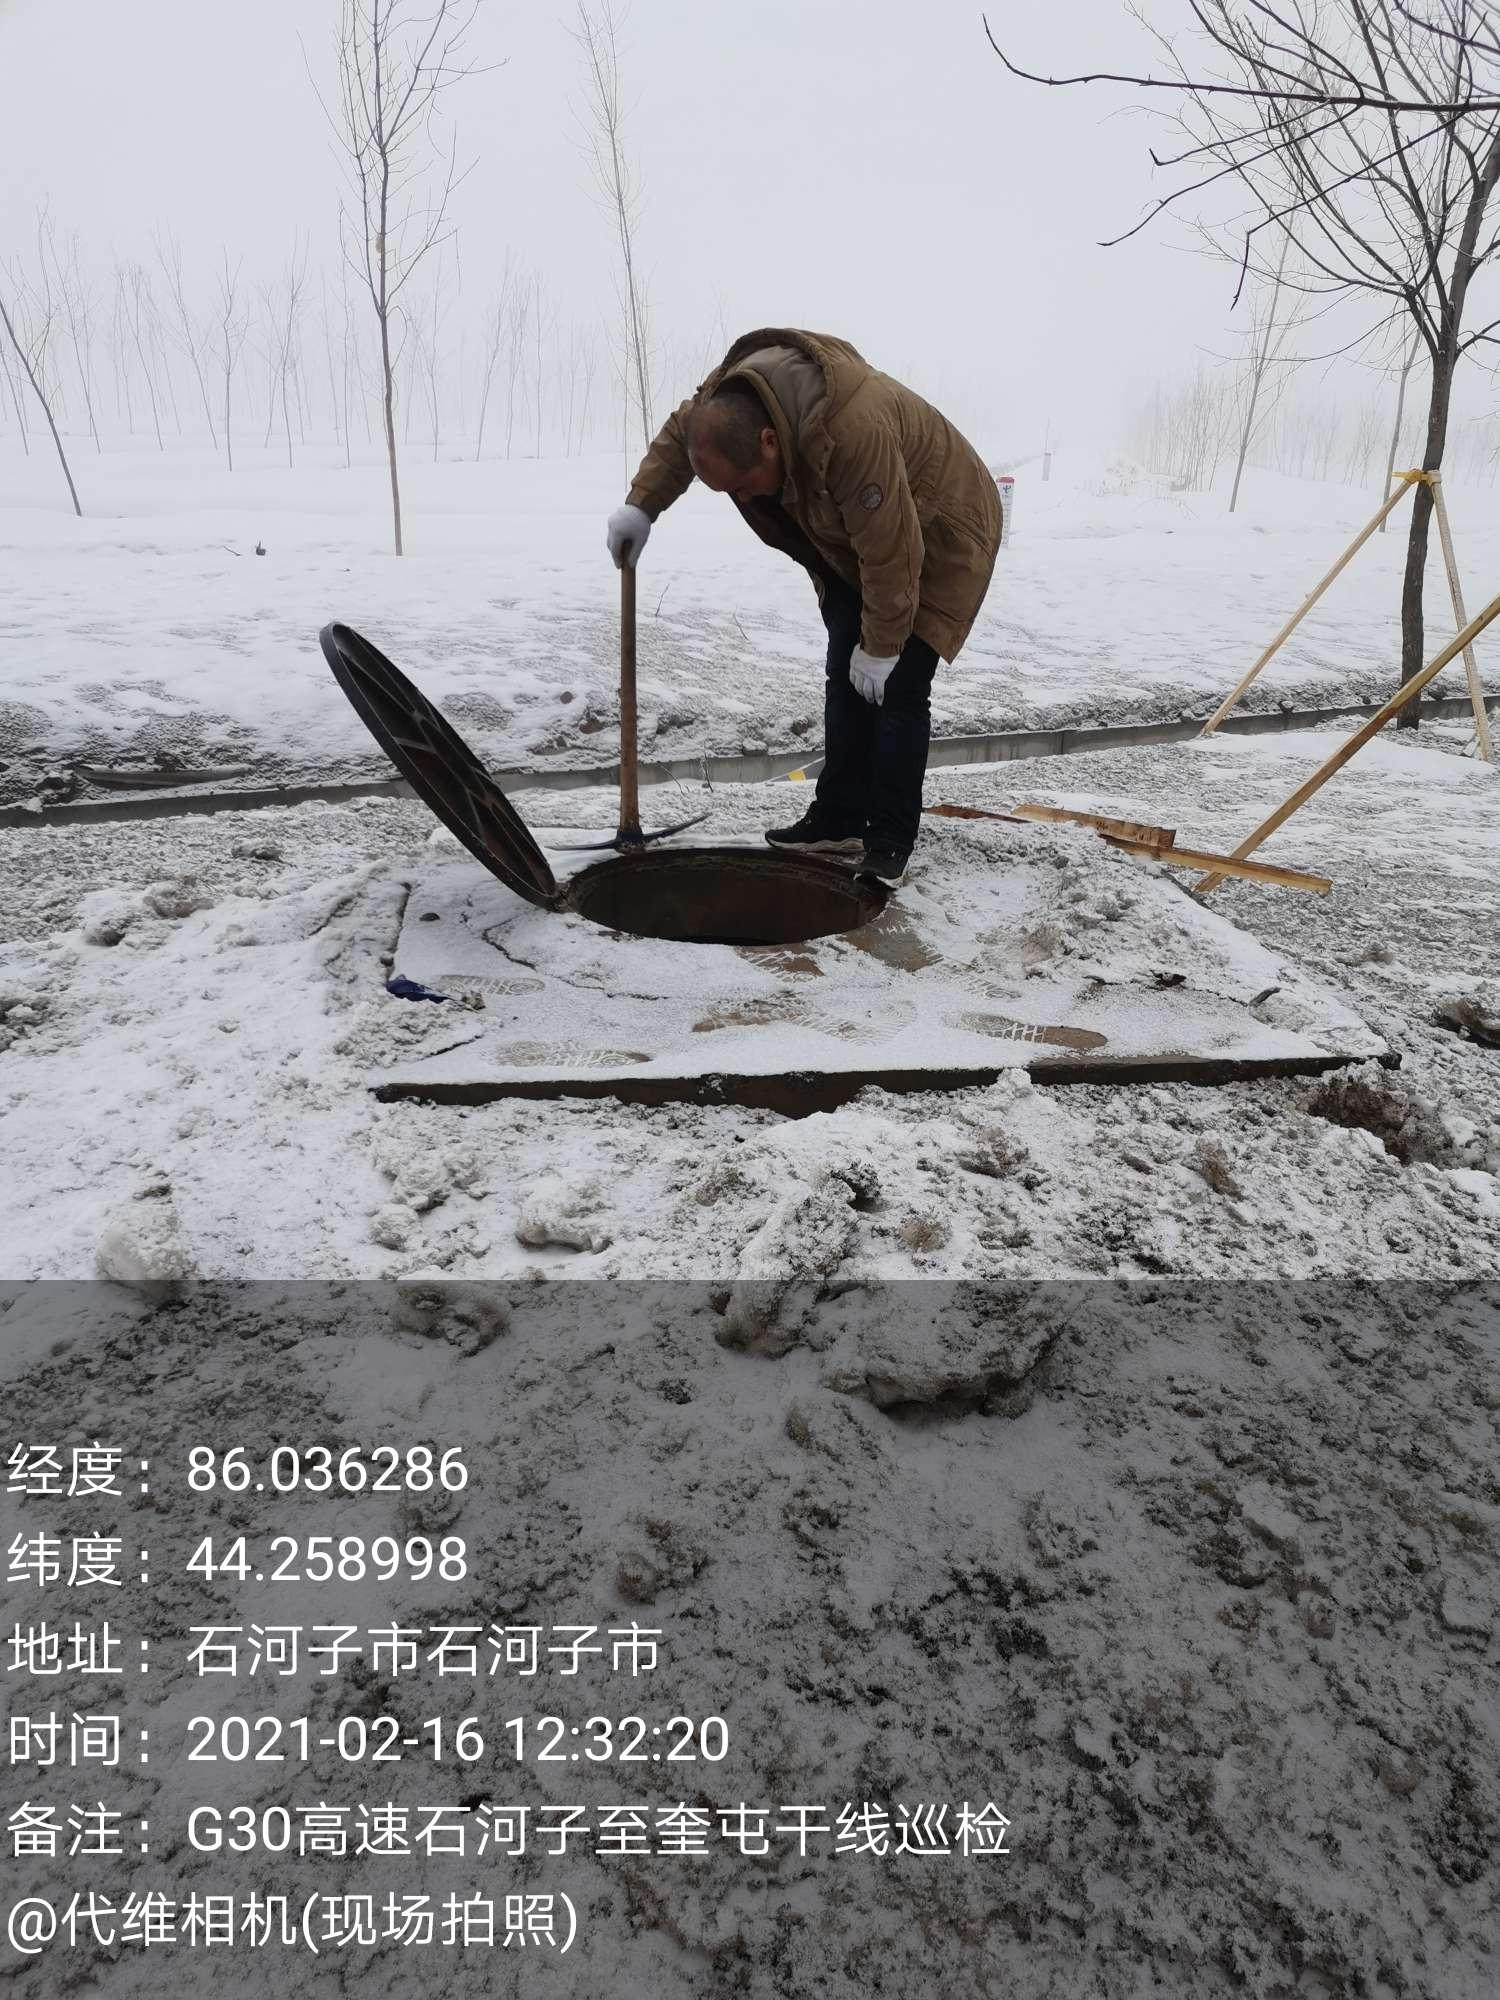wellcover: (282, 611, 930, 1036)
